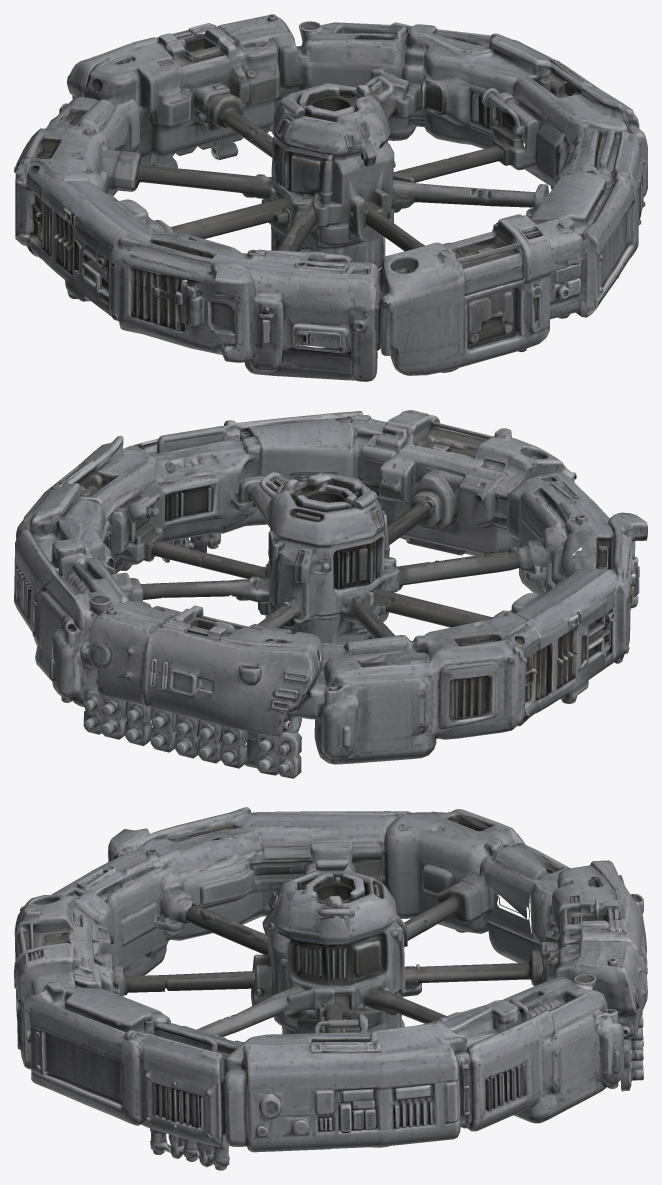
The model's file is ring5t.glb.
3 views of the same model, one above another, from view 1: azimuth 30°, elevation 25°; view 2: azimuth 150°, elevation 25°; view 3: azimuth 270°, elevation 25° (orthographic). The views are drawn at different scales.
Visible parts, largest first — view 1: fffd9dee_91f0_4eca_b30c_996a0b796fb2; view 2: fffd9dee_91f0_4eca_b30c_996a0b796fb2; view 3: fffd9dee_91f0_4eca_b30c_996a0b796fb2.
Boxes of the visible parts, x1=… form: fffd9dee_91f0_4eca_b30c_996a0b796fb2: x1=14, y1=14, x2=647, y2=381; fffd9dee_91f0_4eca_b30c_996a0b796fb2: x1=14, y1=410, x2=647, y2=778; fffd9dee_91f0_4eca_b30c_996a0b796fb2: x1=14, y1=807, x2=647, y2=1170.
Bounding box in the file's own units: 0.9997 × 0.3868 × 1.
Materials: 1 (1 with a texture image).
